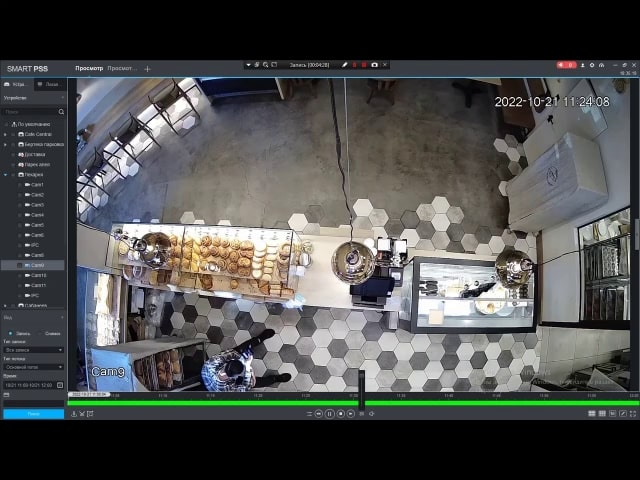barcounter: (96, 220, 539, 334)
person: (196, 334, 295, 392)
